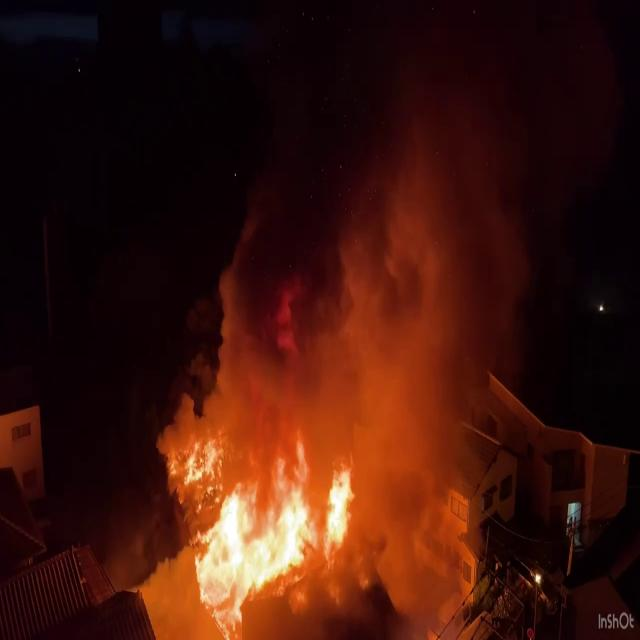Fire: (168, 435, 360, 631)
Smoke: (180, 18, 511, 465)
